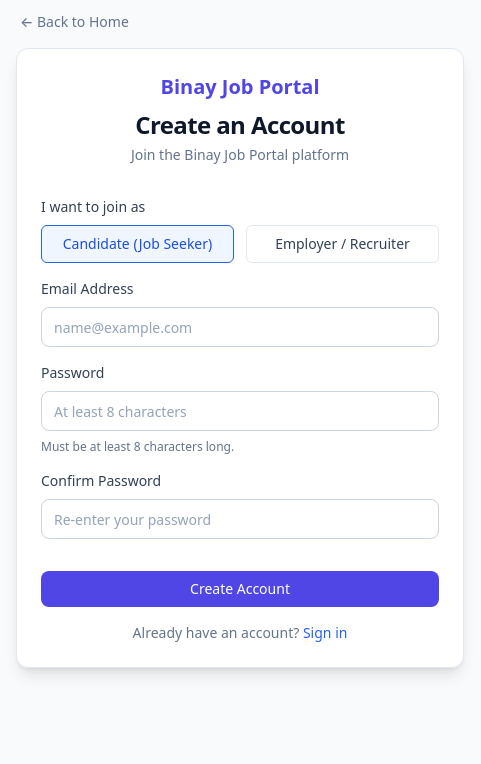
Batch 2 Auth Pages & Flow Test Suite › Signup Page › enforces password minimum length of 8 characters
Type "newuser@example.com" into the field with test id "signup-email-input" at point(240, 327), box [41, 307, 439, 347]
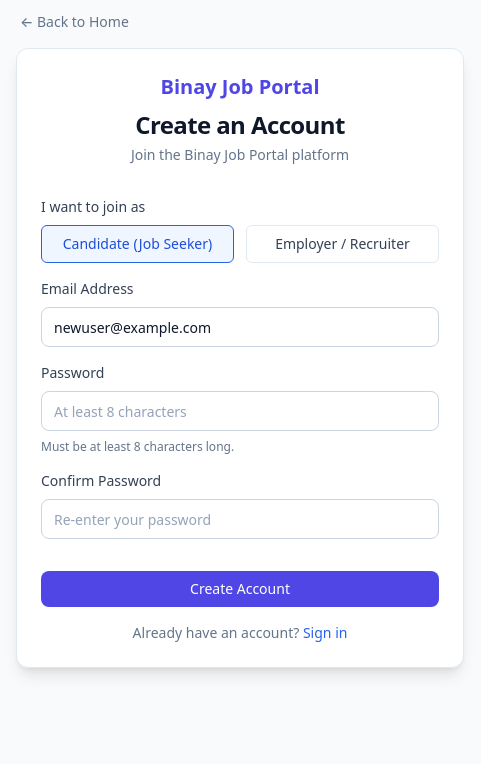
Type "short" into the password field with test id "signup-password-input" at point(240, 411), box [41, 391, 439, 431]
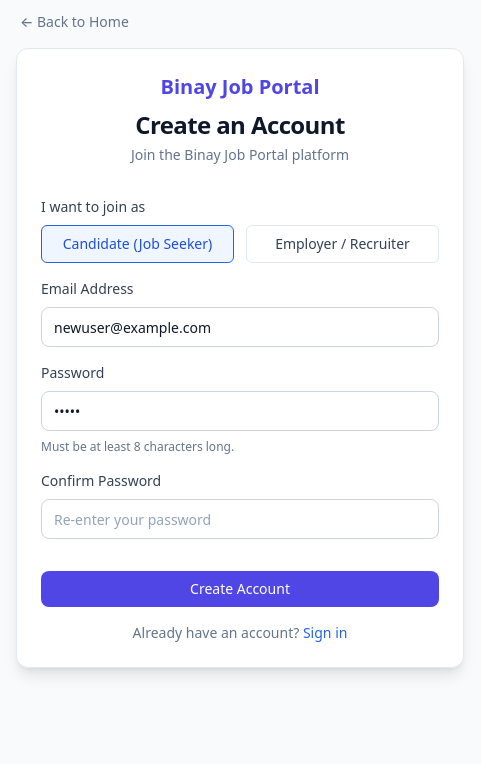
Type "short" into the password field with test id "signup-confirm-password-input" at point(240, 519), box [41, 499, 439, 539]
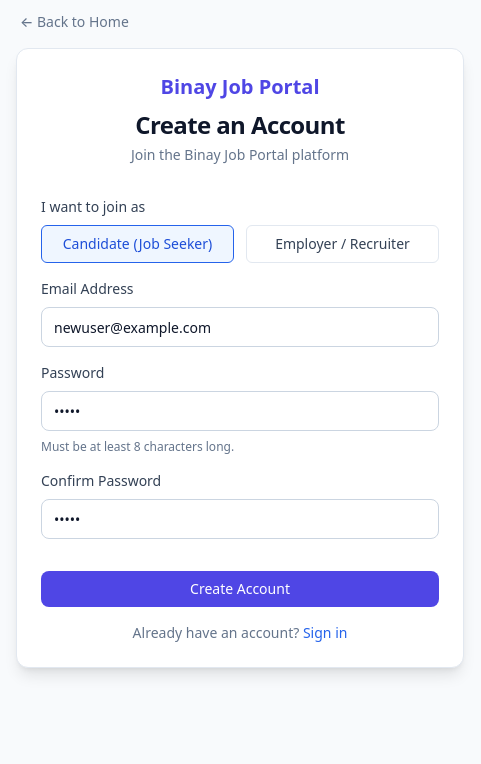
Submit the form with test id "signup-form", box [41, 181, 439, 643]
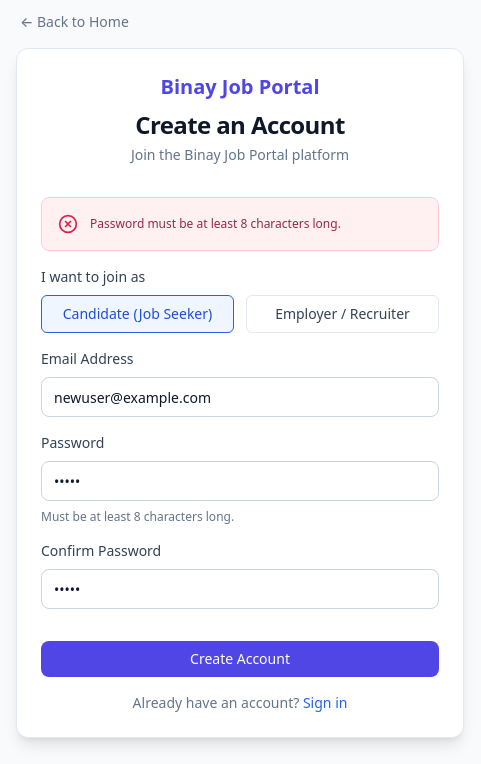
Check: the message "Password must be at least 8 characters long." is shown, box [41, 197, 439, 251]
Check: the text "Password must be at least 8 characters long." is shown, box [90, 215, 341, 232]
